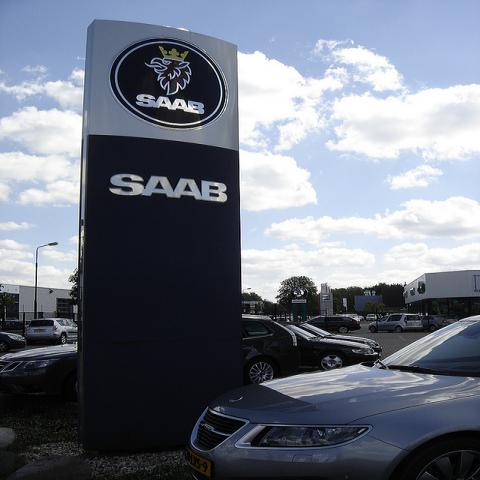car: (183, 314, 479, 480), (285, 321, 377, 369), (242, 316, 298, 384), (276, 321, 382, 352), (23, 317, 78, 345), (368, 312, 423, 334), (302, 316, 362, 334), (422, 315, 448, 330), (366, 314, 377, 322)
